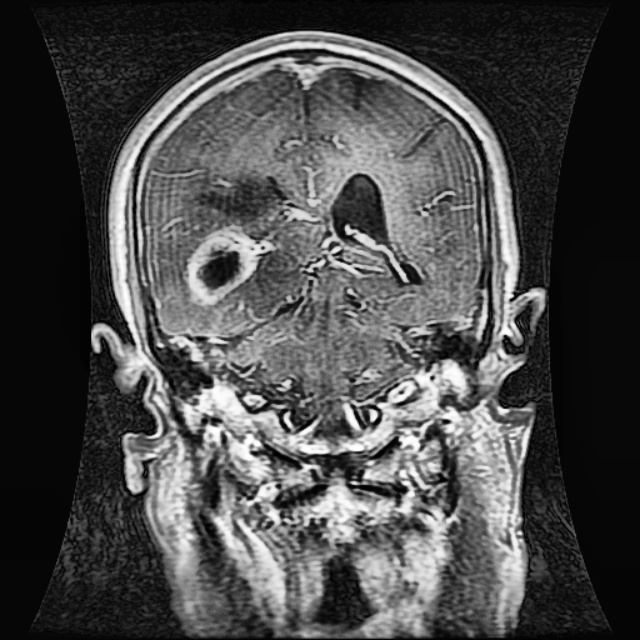Glioma: (183, 225, 272, 305)
